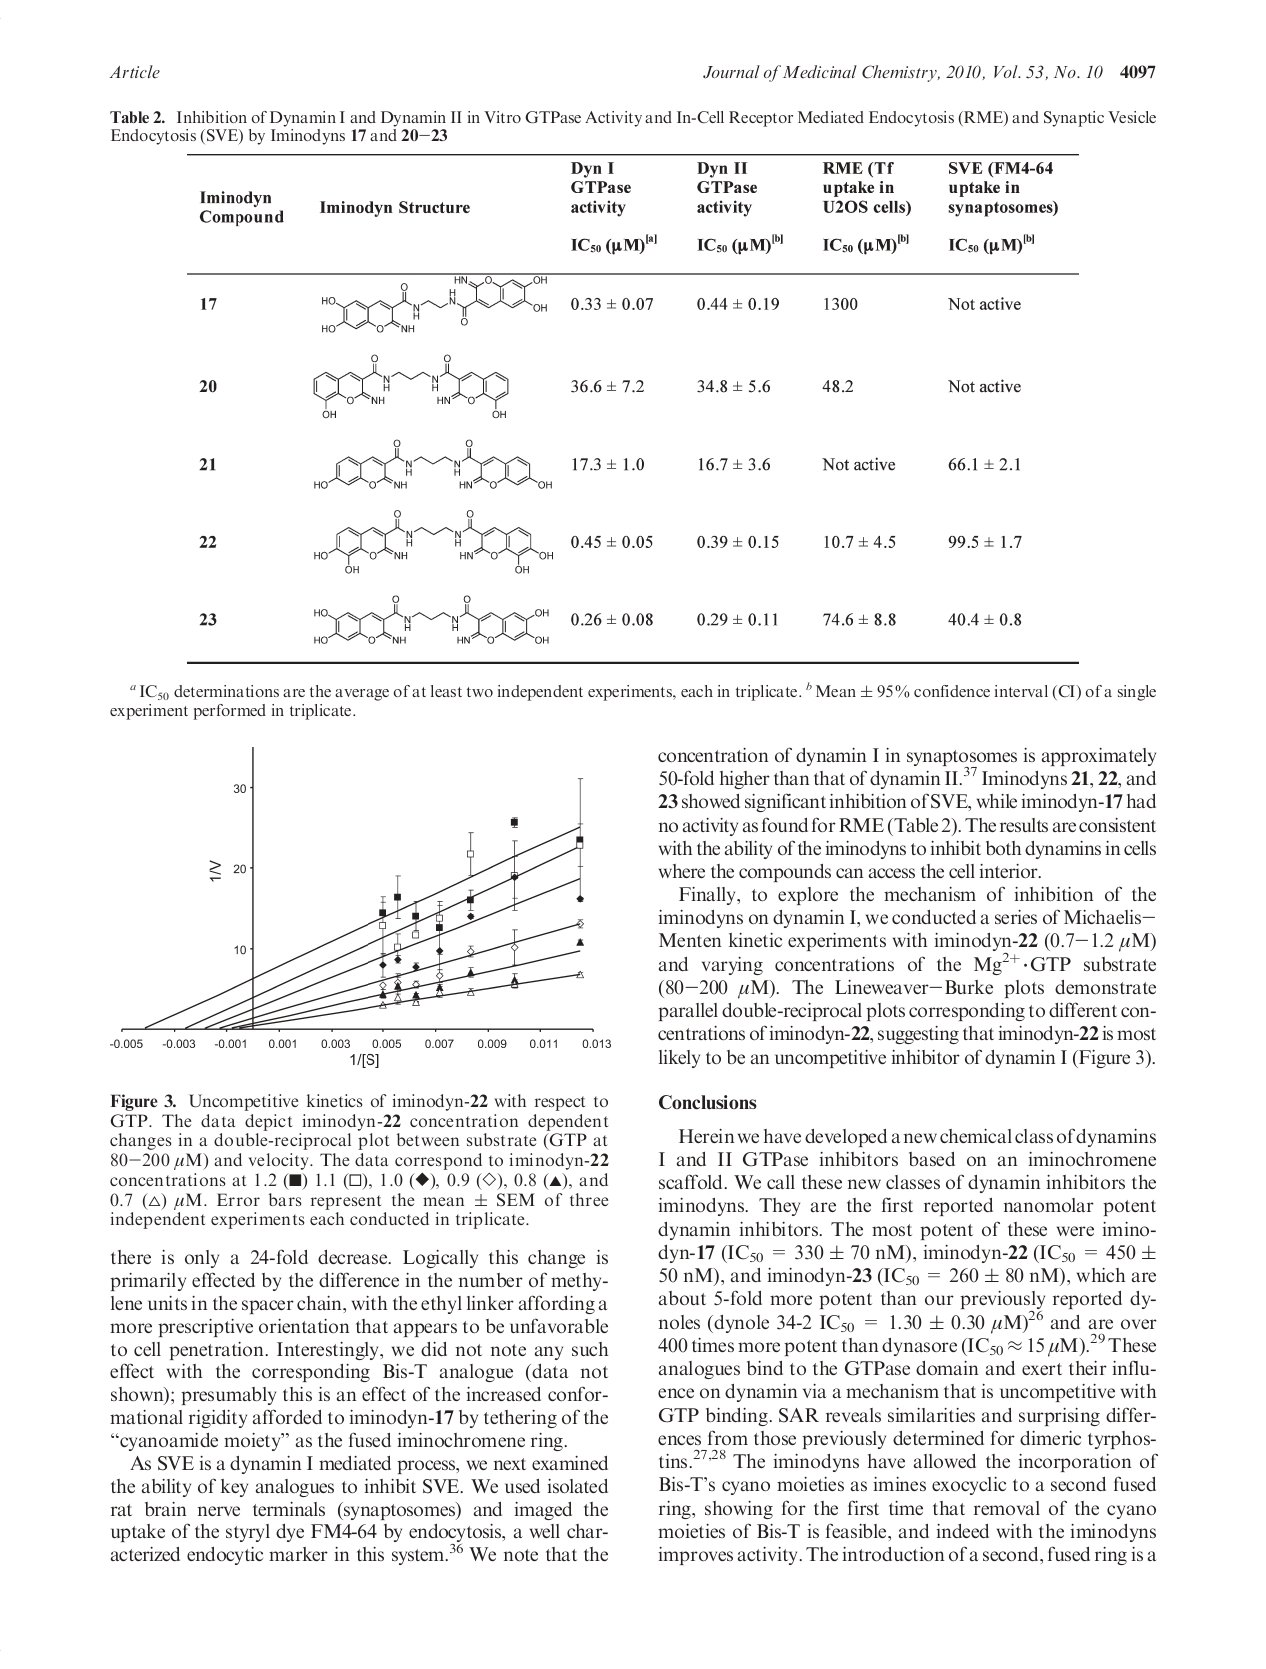exist_molecular: (301, 431, 556, 503), (302, 508, 552, 577), (313, 348, 511, 430), (314, 273, 559, 338), (301, 588, 552, 650)
